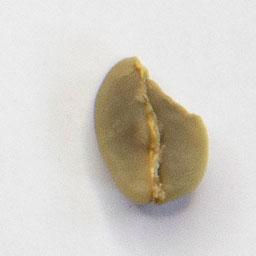defect: (91, 55, 212, 209)
